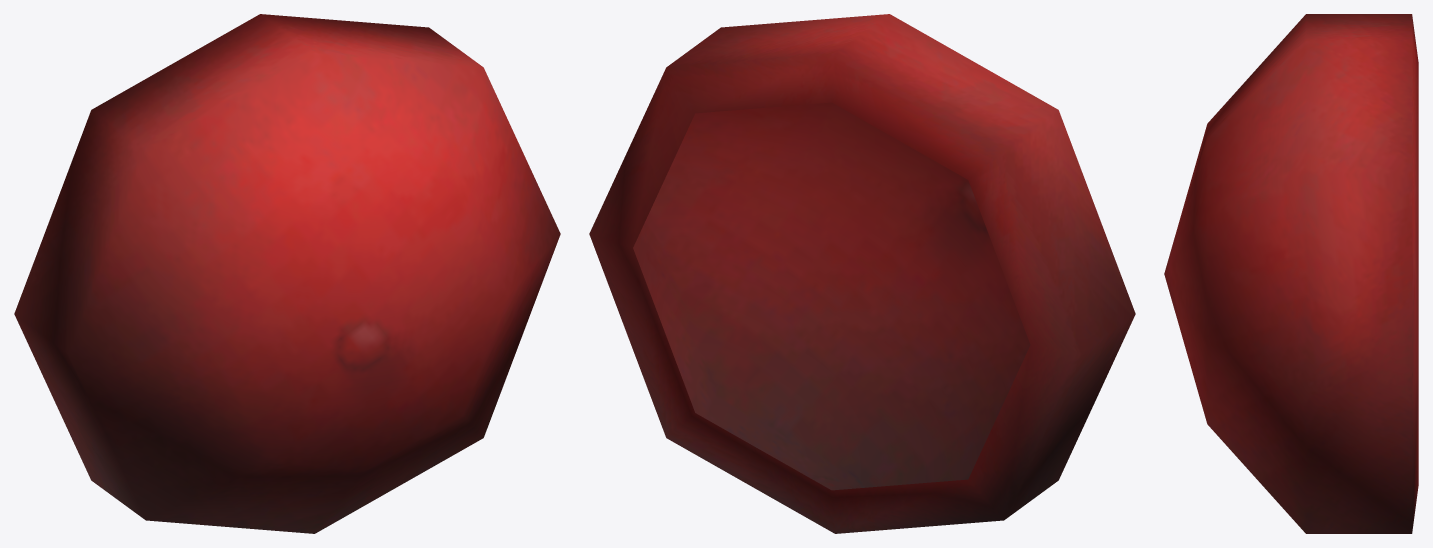
File: SM_Fire_Alarm.FBX
3 renders of one model, left to right at view 1: azimuth 30°, elevation 25°; view 2: azimuth 150°, elevation 25°; view 3: azimuth 270°, elevation 25°, orthographic. The views are drawn at different scales.
Parts seen in each view (by area): view 1: SM_Fire_Alarm; view 2: SM_Fire_Alarm; view 3: SM_Fire_Alarm.
Part boxes in pixels (box(x1,y1,x2,y2)): SM_Fire_Alarm: box(14, 14, 560, 533); SM_Fire_Alarm: box(589, 14, 1135, 533); SM_Fire_Alarm: box(1164, 14, 1418, 533).
Bounding box in the file's own units: 13.26 × 6.12 × 12.37.
